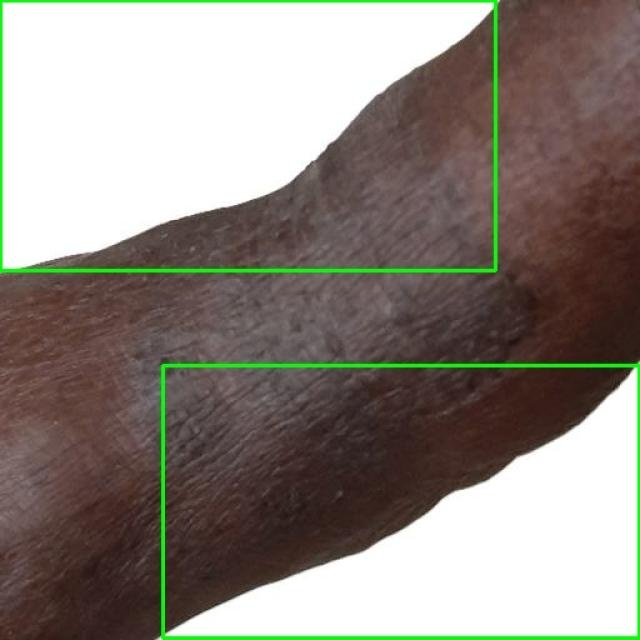Eczema: (0, 0, 495, 270), (162, 366, 639, 639)
